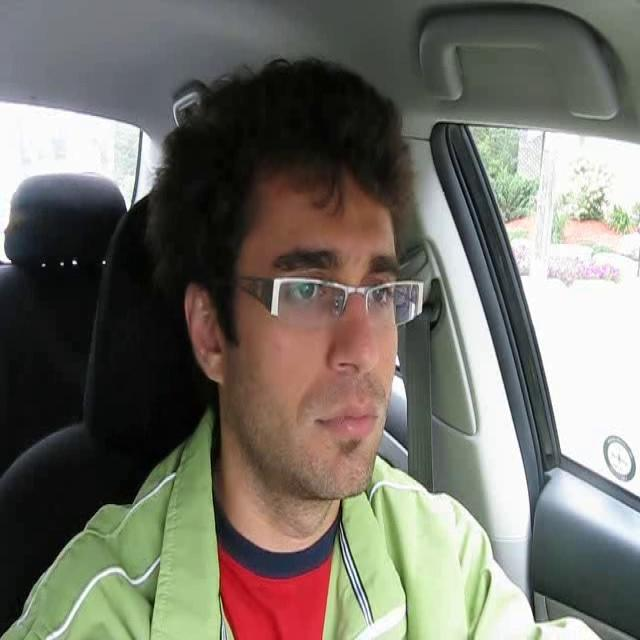close: (309, 395, 391, 442)
